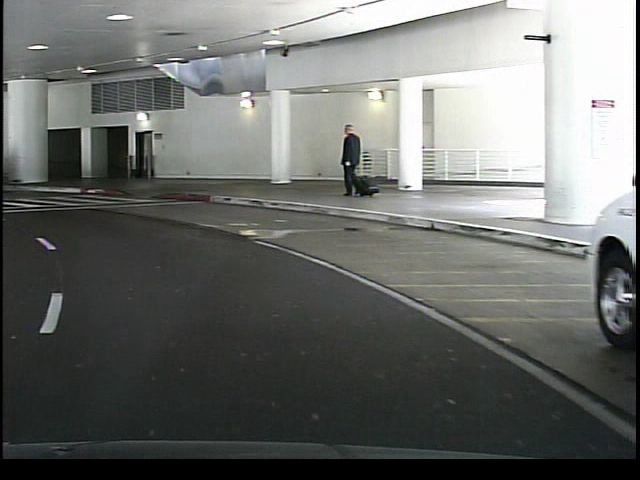person: (332, 122, 364, 200)
